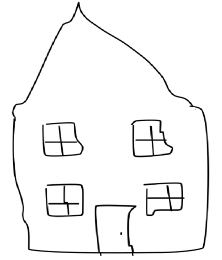big_house: (0, 0, 220, 259)
closed_window: (36, 115, 89, 159), (139, 175, 191, 218), (127, 115, 175, 160), (40, 177, 88, 222)
door: (91, 197, 141, 260)
single_line_roof: (2, 0, 207, 115)
wall: (5, 98, 211, 255)
